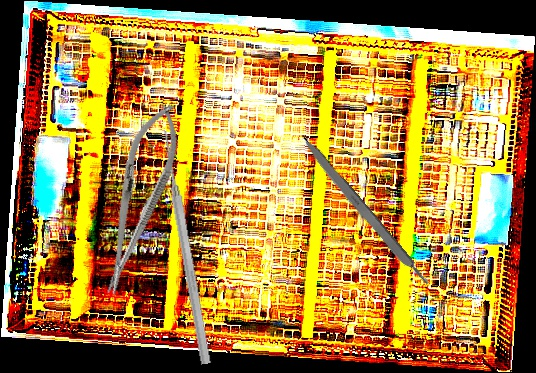Needle Holder: (86, 97, 191, 301)
Pusher: (158, 129, 214, 366)
Scalpel Handle: (296, 132, 433, 293)
